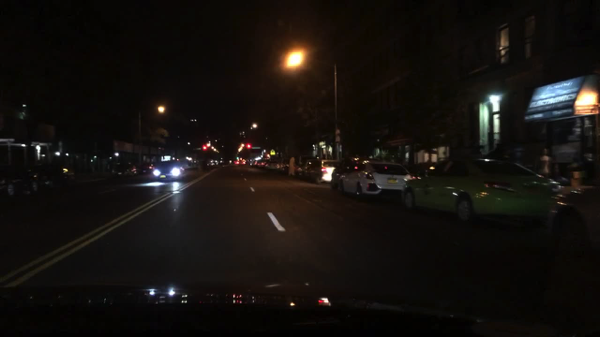car: (401, 156, 567, 226), (339, 160, 416, 200), (555, 183, 599, 244), (0, 167, 40, 201), (34, 164, 76, 192), (329, 160, 360, 191), (305, 158, 341, 184), (153, 159, 186, 180), (112, 162, 136, 178), (279, 162, 302, 176), (262, 158, 280, 172), (296, 160, 310, 178), (136, 162, 155, 174), (252, 158, 264, 167), (220, 161, 230, 168), (249, 159, 255, 166)
traffic light: (247, 142, 250, 148), (203, 144, 206, 150)
traffic sign: (270, 149, 275, 155)
